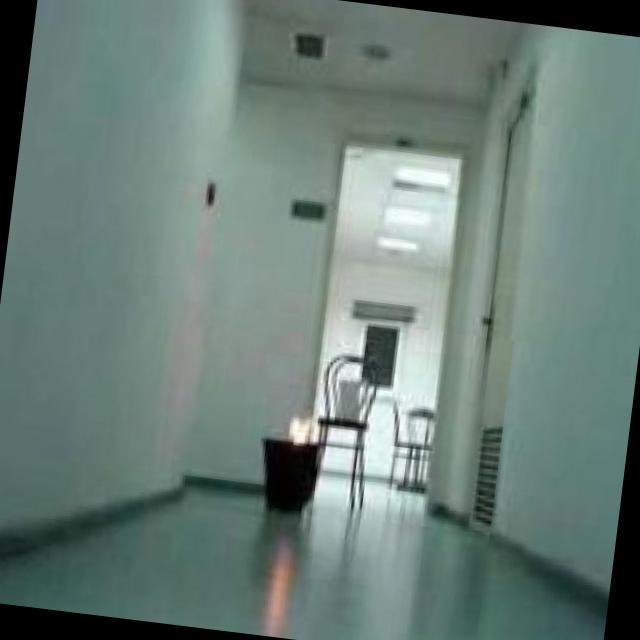Fire: (281, 410, 323, 445)
